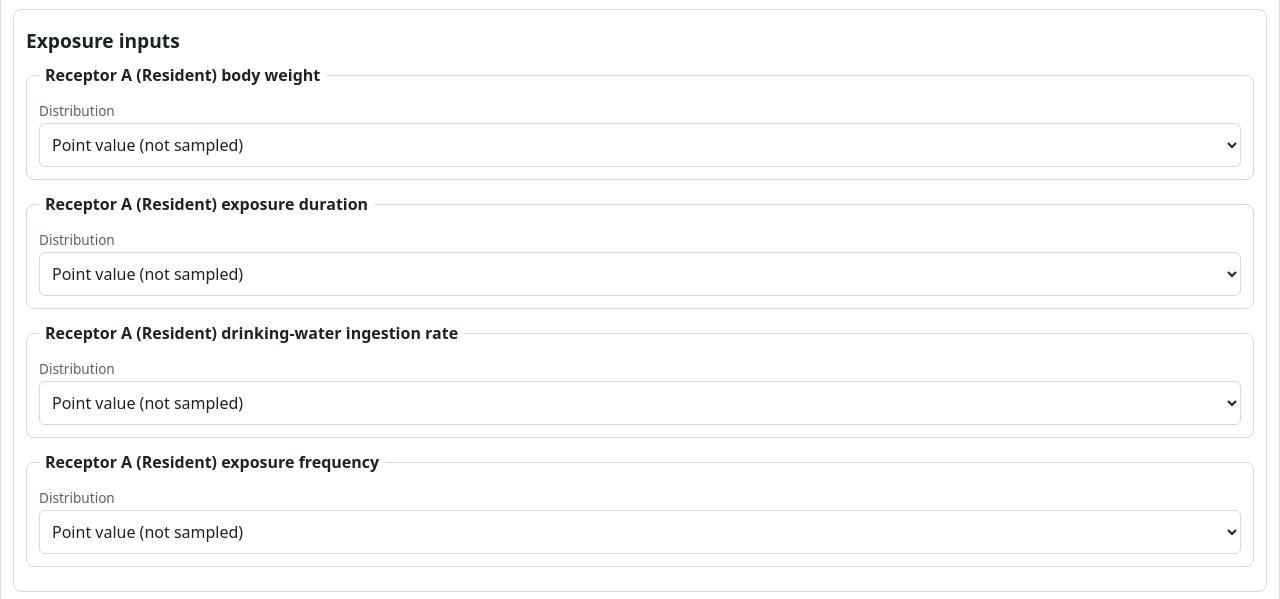
Test: CleanupUncertainty › refuses a run projected above 10 minutes
Select "Uniform" in the dropdown labelled "Distribution" below "Receptor A (Resident) body weight" at (640, 145), box [39,123,1241,167]
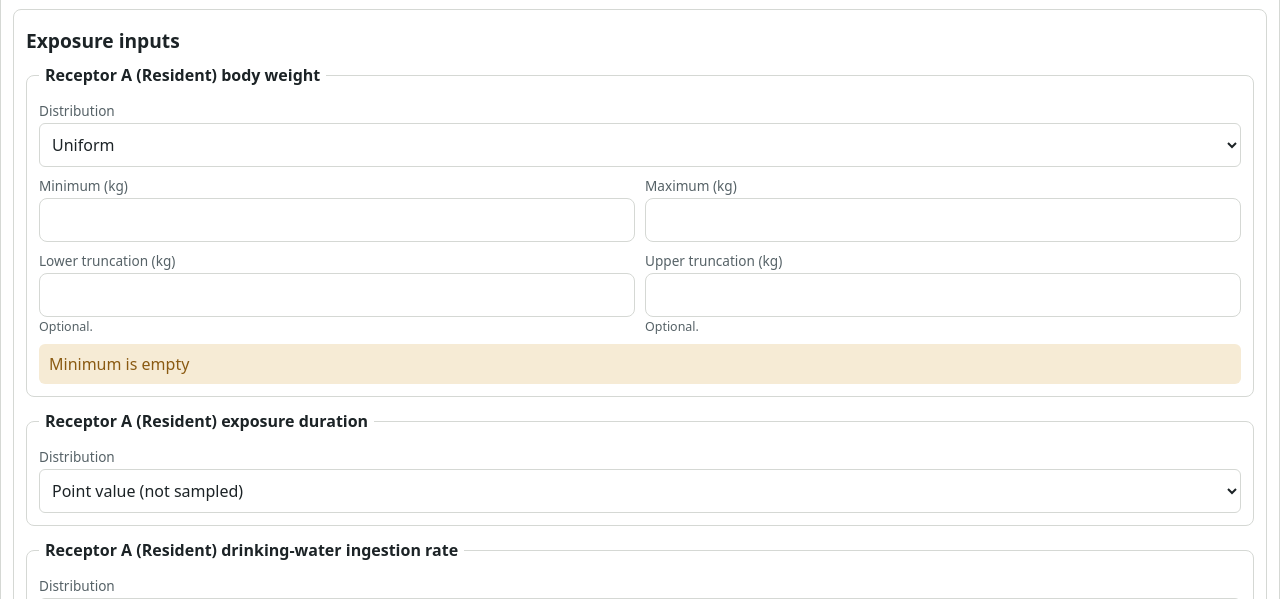
Type "50" into the field labelled "Minimum (kg)".
click(337, 220); type("50")  # box [39,198,635,242]
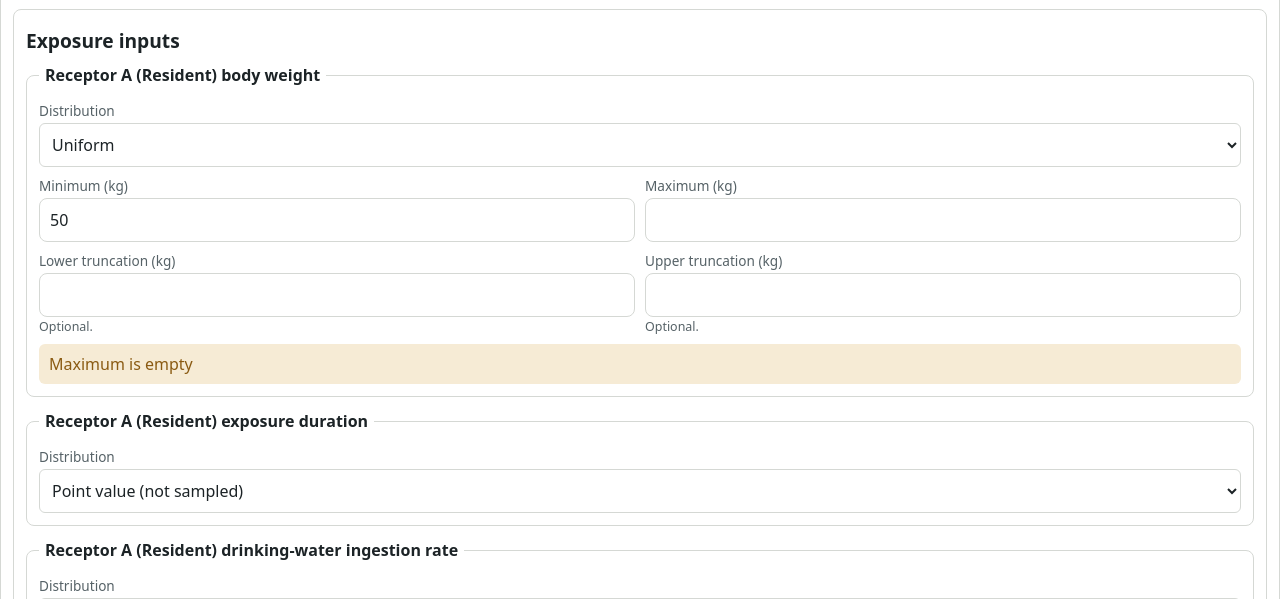
Type "100" into the field labelled "Maximum (kg)".
click(943, 220); type("100")  # box [645,198,1241,242]
(page scrolled)
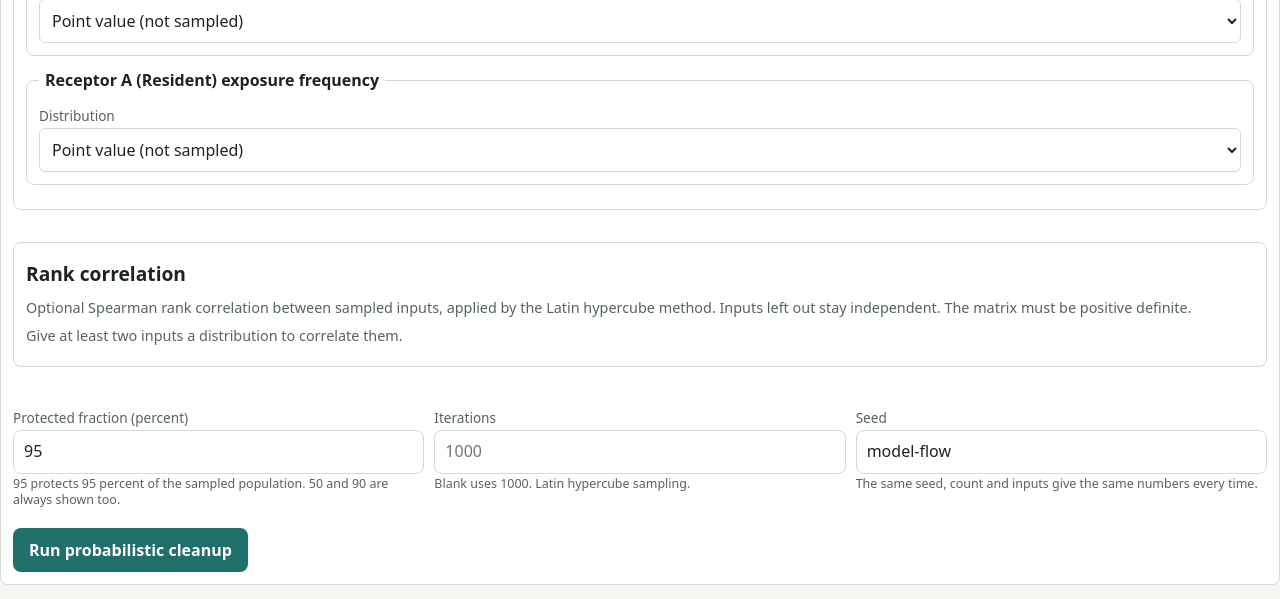
Type "500" into the field labelled "Iterations Blank uses 1000. Latin hypercube sampling.".
click(640, 452); type("500")  # box [434,430,846,474]
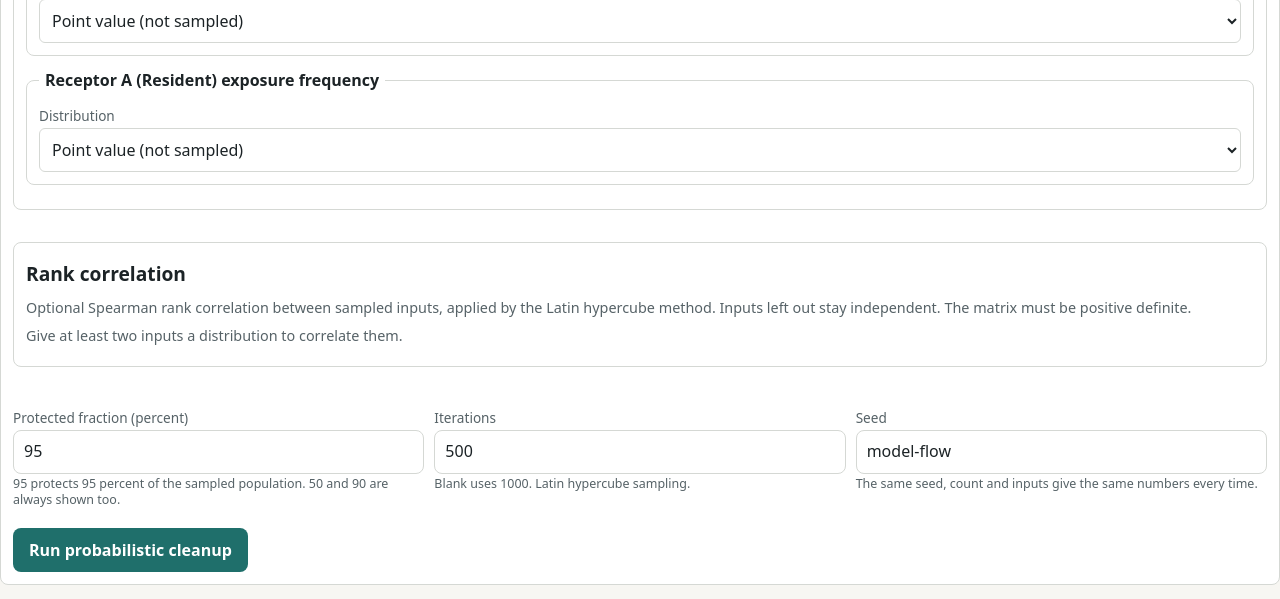
Click the button "Run probabilistic cleanup".
click(130, 550)  # box [13,528,248,572]
(page scrolled)
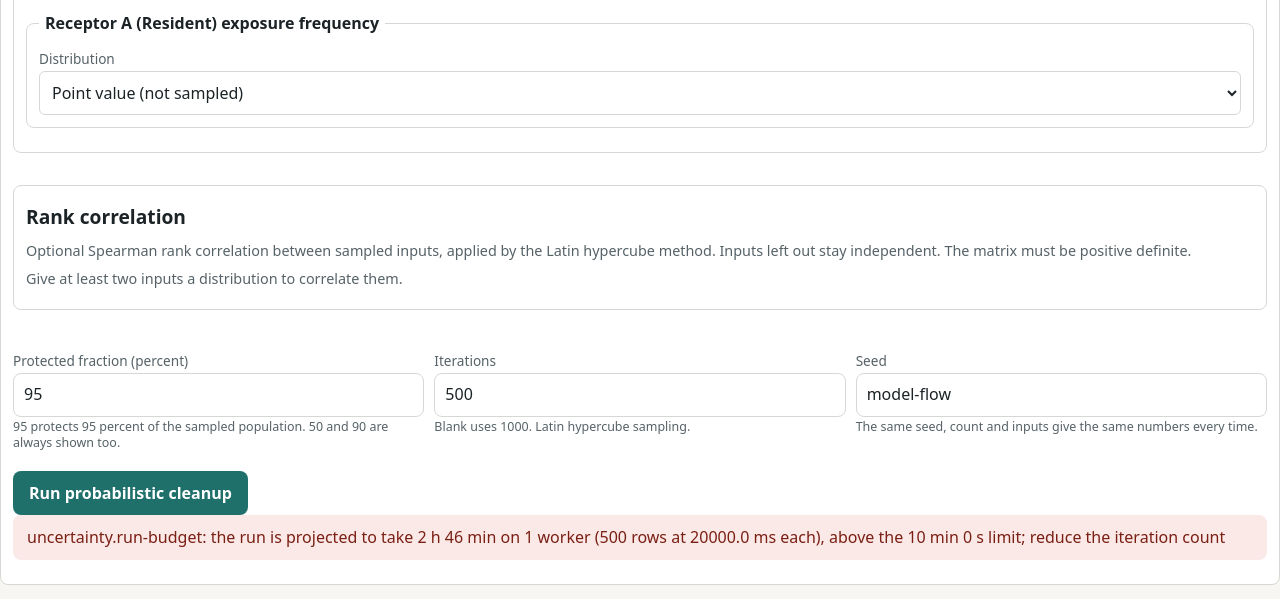
Check: the message shows "run-budget", box [27,526,1225,548]
